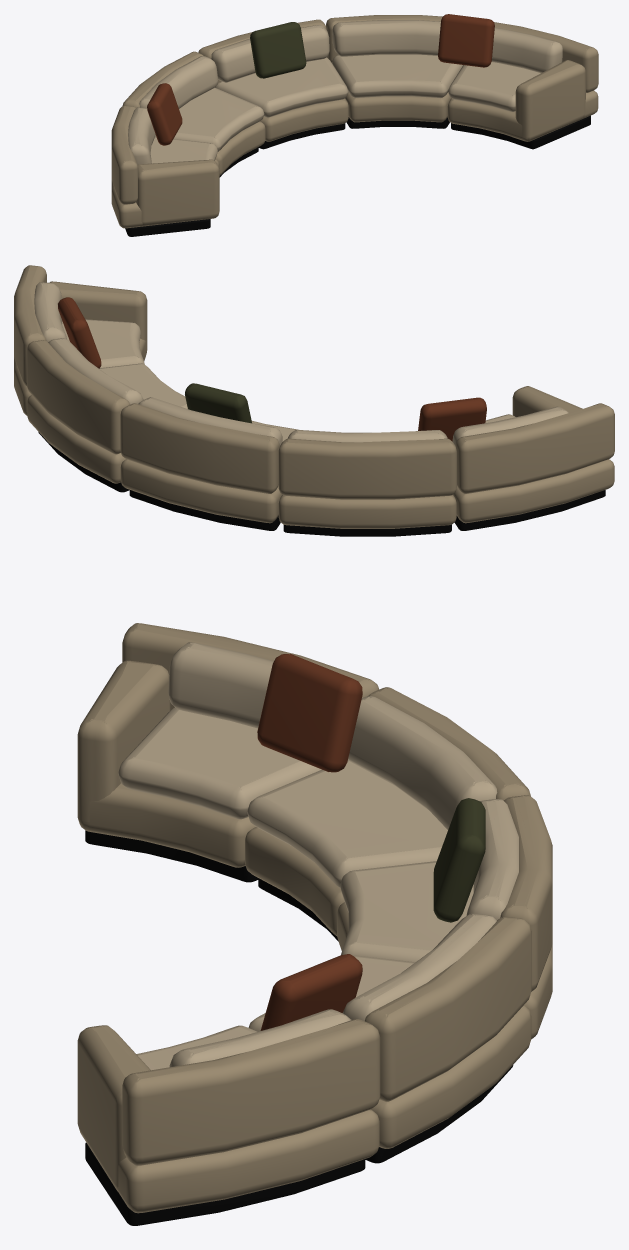
File: curved-sectional-lod2.glb
3 views of the same model, one above another, from view 1: azimuth 30°, elevation 25°; view 2: azimuth 150°, elevation 25°; view 3: azimuth 270°, elevation 25° (orthographic). The views are drawn at different scales.
Visible parts, largest first — view 1: Oatmeal performance fabric, Oatmeal upholstered base, Terracotta accent pillow, Shadow plinth, Olive accent pillow; view 2: Oatmeal upholstered base, Oatmeal performance fabric, Shadow plinth, Terracotta accent pillow, Olive accent pillow; view 3: Oatmeal upholstered base, Oatmeal performance fabric, Terracotta accent pillow, Shadow plinth, Olive accent pillow.
Part boxes in pixels (x1,y1,x2,y2): Oatmeal performance fabric: [128, 20, 562, 164]; Oatmeal upholstered base: [111, 15, 598, 228]; Terracotta accent pillow: [147, 14, 494, 145]; Shadow plinth: [125, 115, 590, 236]; Olive accent pillow: [250, 22, 306, 78]; Oatmeal upholstered base: [14, 265, 614, 528]; Oatmeal performance fabric: [34, 282, 568, 446]; Shadow plinth: [38, 432, 605, 536]; Terracotta accent pillow: [58, 297, 486, 441]; Olive accent pillow: [185, 383, 251, 423]; Oatmeal upholstered base: [77, 623, 552, 1213]; Oatmeal performance fabric: [118, 642, 518, 1070]; Terracotta accent pillow: [257, 654, 362, 1030]; Shadow plinth: [85, 830, 513, 1225]; Olive accent pillow: [433, 798, 485, 922].
Bounding box in the file's own units: 4.61 × 0.8431 × 1.99.
